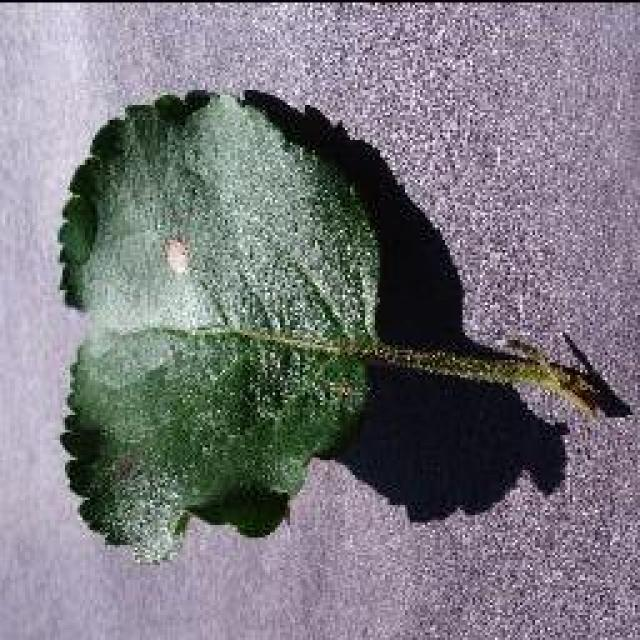black_rot: (150, 223, 209, 298)
